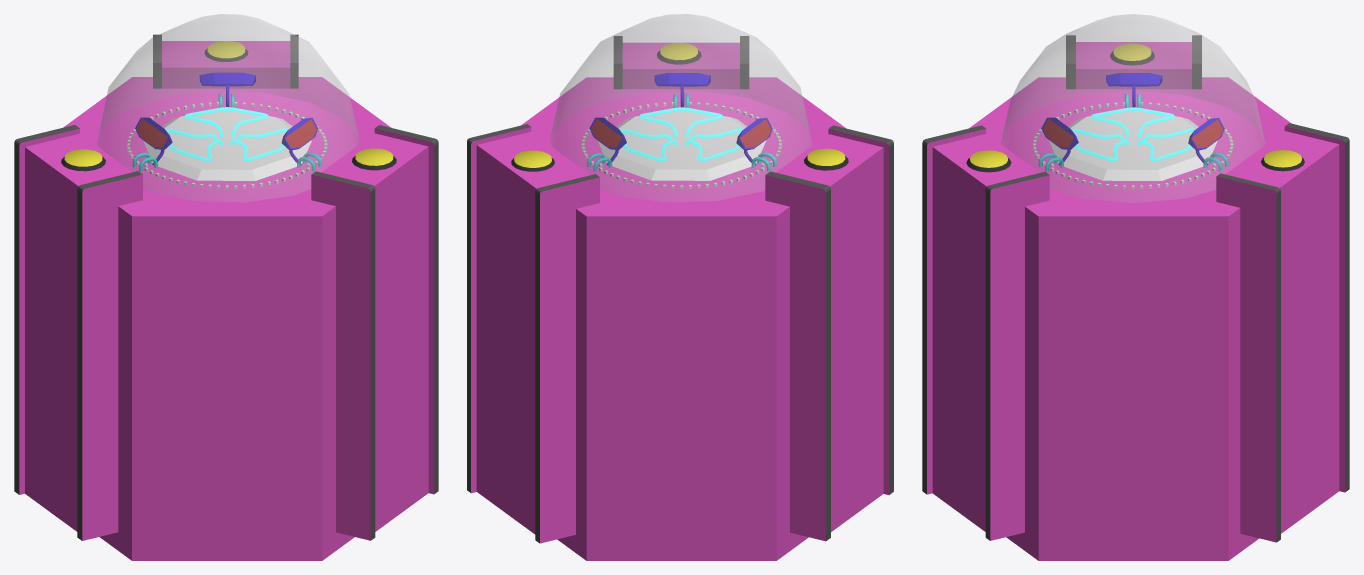
File: UpdatedCyclone.glb
3 renders of one model, left to right at view 1: azimuth 30°, elevation 25°; view 2: azimuth 150°, elevation 25°; view 3: azimuth 270°, elevation 25°, orthographic.
Visible parts, largest first — view 1: Cyclone, CycloneDome, CycloneMirror, CycloneJackpot2, CycloneNeonBig2, Button1, Button3, CycloneNeonBig3, CycloneNeonBig1, Button2; view 2: Cyclone, CycloneDome, CycloneMirror, CycloneJackpot1, CycloneNeonBig1, CycloneNeonBig3, Button3, CycloneNeonBig2, Button2, Button1; view 3: Cyclone, CycloneDome, CycloneMirror, CycloneJackpot.001, CycloneNeonBig3, CycloneNeonBig1, Button2, CycloneNeonBig2, Button1, Button3.
Part boxes in pixels (<box>): Cyclone: <box>14,34,438,560</box>; CycloneDome: <box>97,14,358,202</box>; CycloneMirror: <box>143,111,311,180</box>; CycloneJackpot2: <box>199,72,255,106</box>; CycloneNeonBig2: <box>185,107,268,137</box>; Button1: <box>355,148,393,165</box>; Button3: <box>64,149,102,166</box>; CycloneNeonBig3: <box>166,128,223,161</box>; CycloneNeonBig1: <box>230,128,288,161</box>; Button2: <box>207,41,245,58</box>; Cyclone: <box>467,36,893,560</box>; CycloneDome: <box>550,14,811,201</box>; CycloneMirror: <box>598,111,765,180</box>; CycloneJackpot1: <box>654,72,710,107</box>; CycloneNeonBig1: <box>639,107,722,137</box>; CycloneNeonBig3: <box>684,128,742,161</box>; Button3: <box>807,148,845,165</box>; CycloneNeonBig2: <box>620,128,677,161</box>; Button2: <box>514,150,551,167</box>; Button1: <box>660,42,697,59</box>; Cyclone: <box>922,35,1349,560</box>; CycloneDome: <box>1001,14,1265,202</box>; CycloneMirror: <box>1049,111,1217,180</box>; CycloneJackpot.001: <box>1106,73,1162,107</box>; CycloneNeonBig3: <box>1091,107,1174,137</box>; CycloneNeonBig1: <box>1072,128,1129,161</box>; Button2: <box>1264,150,1301,167</box>; CycloneNeonBig2: <box>1136,128,1194,161</box>; Button1: <box>970,150,1007,167</box>; Button3: <box>1113,43,1151,60</box>.
Size of the model in its own units: 1.95 by 2.7 by 2.25.
